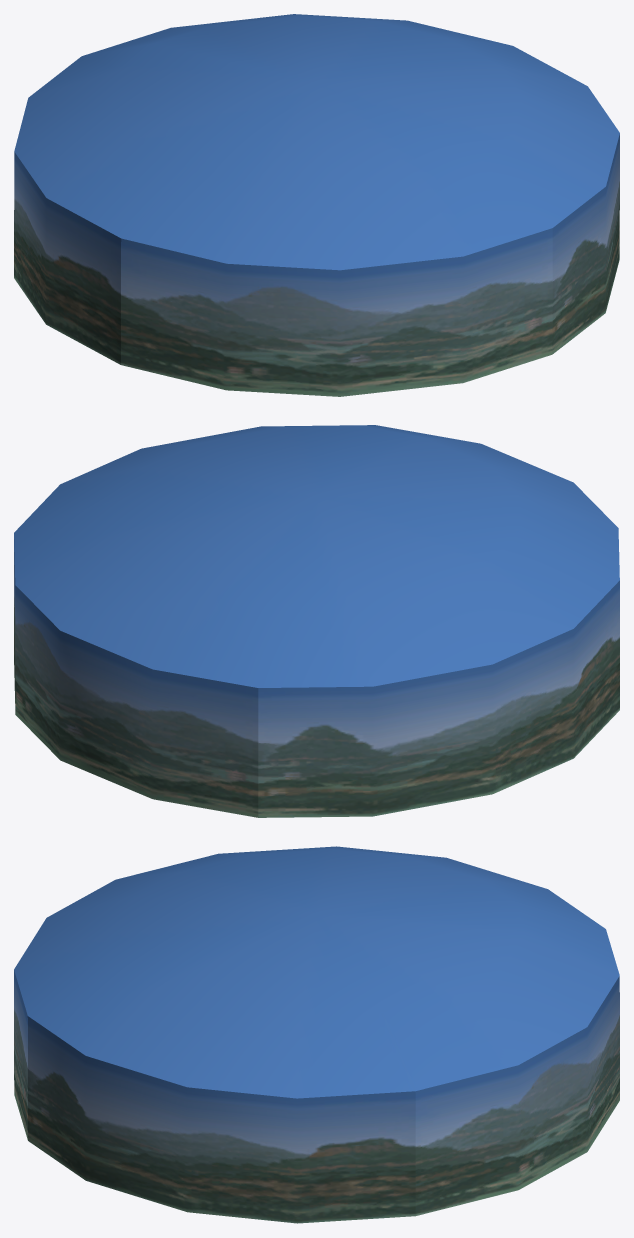
The model's file is town.obj.
3 views of the same model, one above another, from view 1: azimuth 30°, elevation 25°; view 2: azimuth 150°, elevation 25°; view 3: azimuth 270°, elevation 25° (orthographic). The views are drawn at different scales.
Visible parts, largest first — view 1: enkei; view 2: enkei; view 3: enkei.
Part boxes in pixels (<box>): enkei: <box>14,14,619,396</box>; enkei: <box>14,425,619,817</box>; enkei: <box>14,846,619,1223</box>.
Size of the model in its own units: 193 by 74.36 by 197.
Materials: 35 (34 with a texture image).
